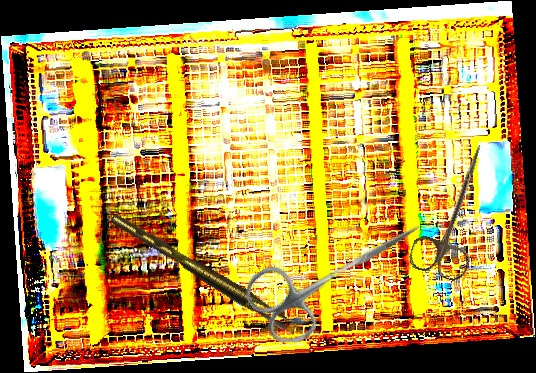Iris Scissors: (238, 189, 439, 354), (406, 135, 505, 284)
Tissue Forceps: (109, 204, 293, 337)
